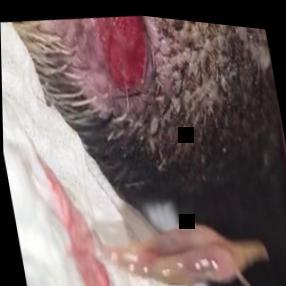skin_lesions: (90, 8, 167, 105)
